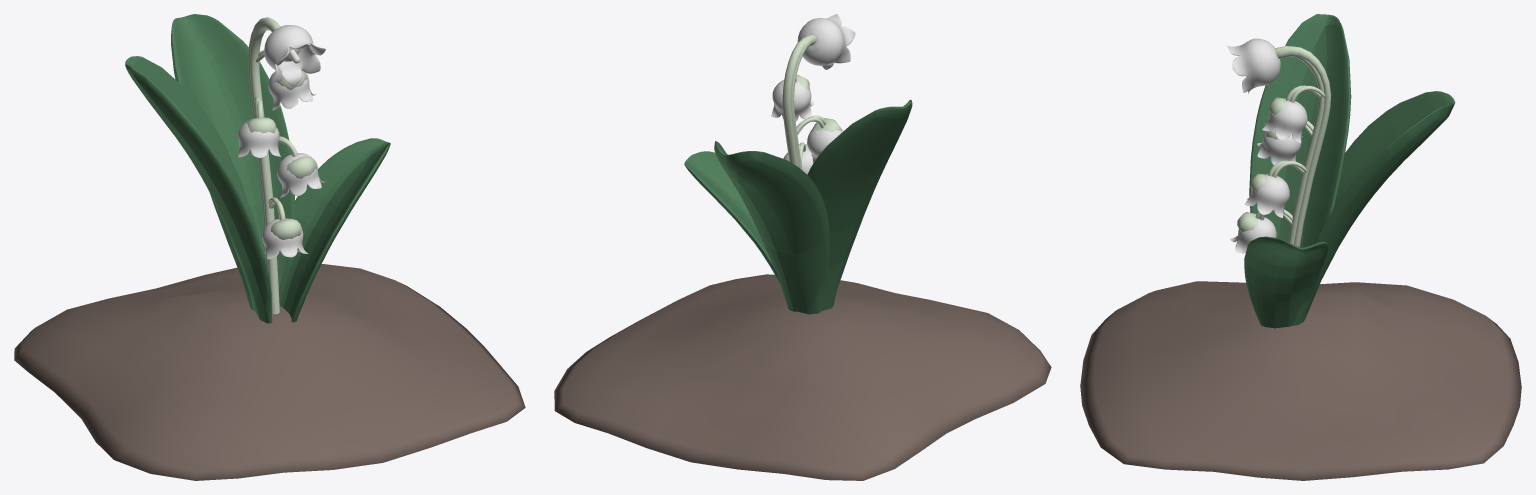
The model's file is lily_of_valley_growth_cycle.fbx.
3 views of the same model, side by side, from view 1: azimuth 30°, elevation 25°; view 2: azimuth 150°, elevation 25°; view 3: azimuth 270°, elevation 25° (orthographic). The views are drawn at different scales.
Parts seen in each view (by area): view 1: dirt1, leaf_3, leaf_2, leaf_1, flowers, buds; view 2: dirt1, leaf_3, leaf_2, flowers, leaf_1, buds; view 3: dirt1, leaf_2, flowers, leaf_3, leaf_1, buds.
Part boxes in pixels (x1=…): dirt1: x1=14, y1=264, x2=525, y2=480; leaf_3: x1=171, y1=14, x2=295, y2=310; leaf_2: x1=125, y1=56, x2=272, y2=323; leaf_1: x1=279, y1=138, x2=390, y2=322; flowers: x1=237, y1=17, x2=325, y2=270; buds: x1=246, y1=21, x2=316, y2=314; dirt1: x1=554, y1=274, x2=1051, y2=480; leaf_3: x1=714, y1=141, x2=829, y2=314; leaf_2: x1=807, y1=99, x2=912, y2=311; flowers: x1=771, y1=14, x2=855, y2=174; leaf_1: x1=684, y1=151, x2=780, y2=284; buds: x1=791, y1=34, x2=842, y2=170; dirt1: x1=1080, y1=281, x2=1521, y2=480; leaf_2: x1=1249, y1=14, x2=1351, y2=247; flowers: x1=1227, y1=38, x2=1330, y2=253; leaf_3: x1=1292, y1=91, x2=1455, y2=325; leaf_1: x1=1244, y1=236, x2=1328, y2=328; buds: x1=1237, y1=46, x2=1324, y2=244.
Size of the model in its own units: 2.68 by 2.37 by 2.67.
